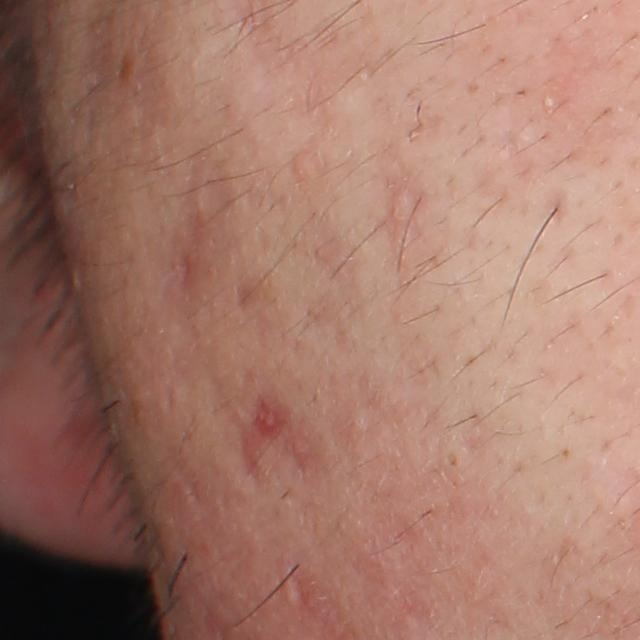atrophic_scar: (226, 383, 335, 498), (282, 562, 318, 623)
comedo: (443, 449, 461, 471)
